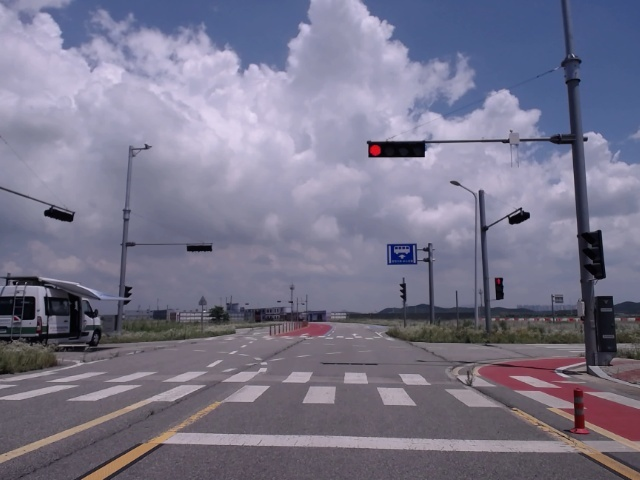red_4: (367, 140, 426, 158)
